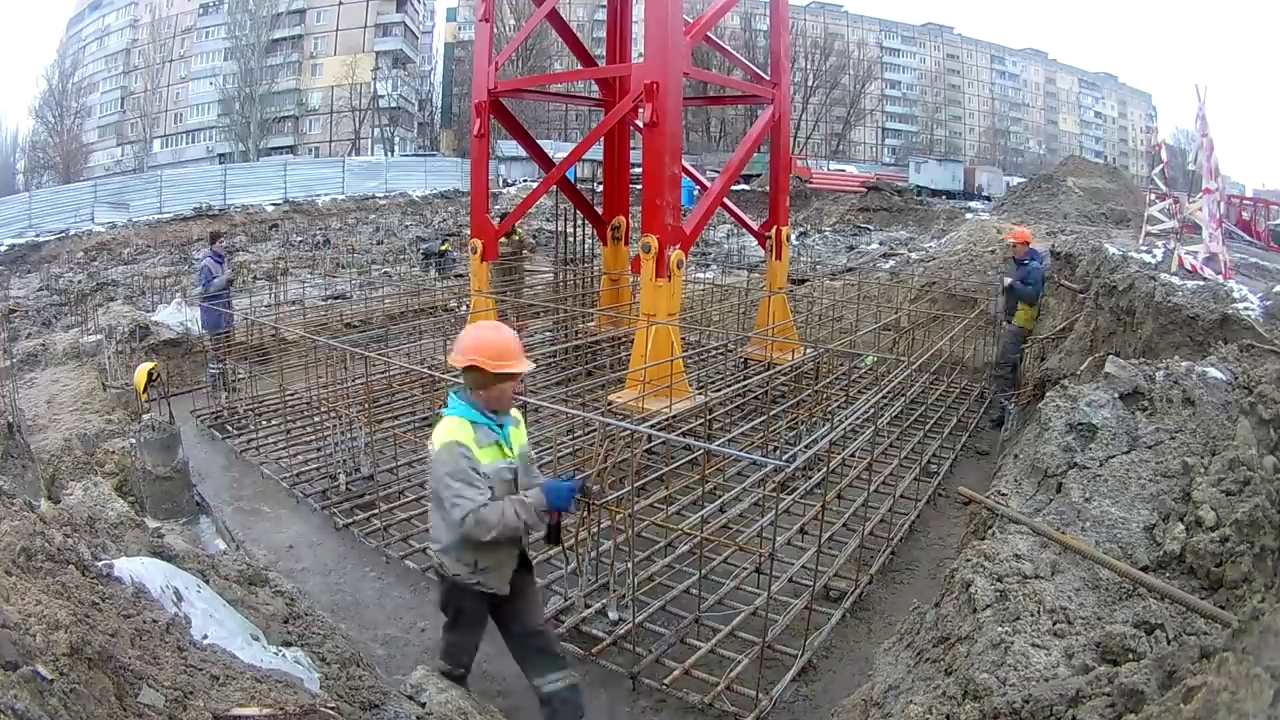helmet: (446, 324, 537, 374), (133, 357, 160, 404), (1003, 226, 1035, 247)
helmet-on: (447, 321, 539, 427), (1002, 227, 1035, 263)
person: (421, 322, 594, 720), (991, 227, 1050, 397), (196, 229, 235, 371)
